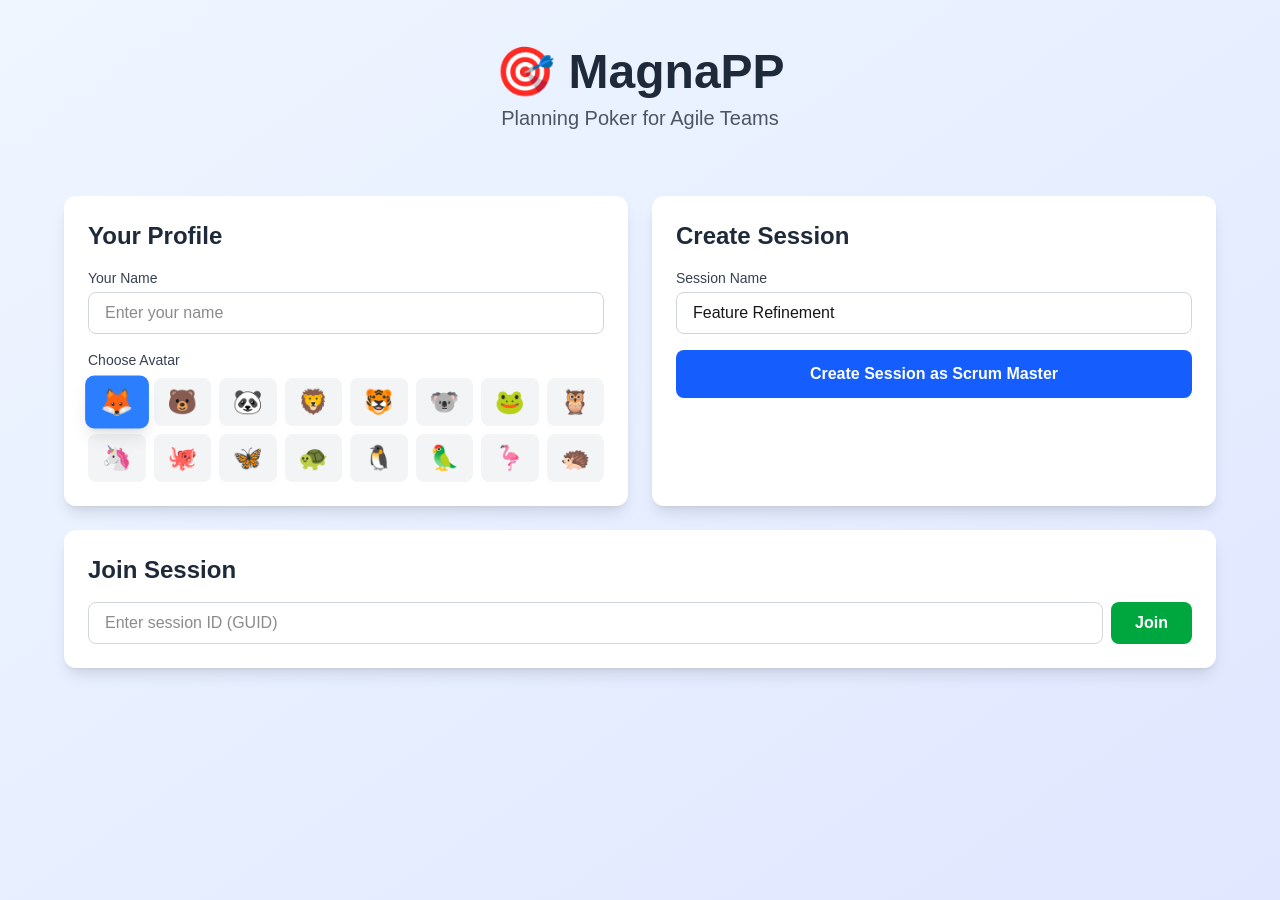
Test: SessionLobby › shows error when joining without name
Type "12345678-1234-1234-1234-123456789012" into the field with placeholder "Enter session ID (GUID)" at (596, 623), box [88,602,1103,644]
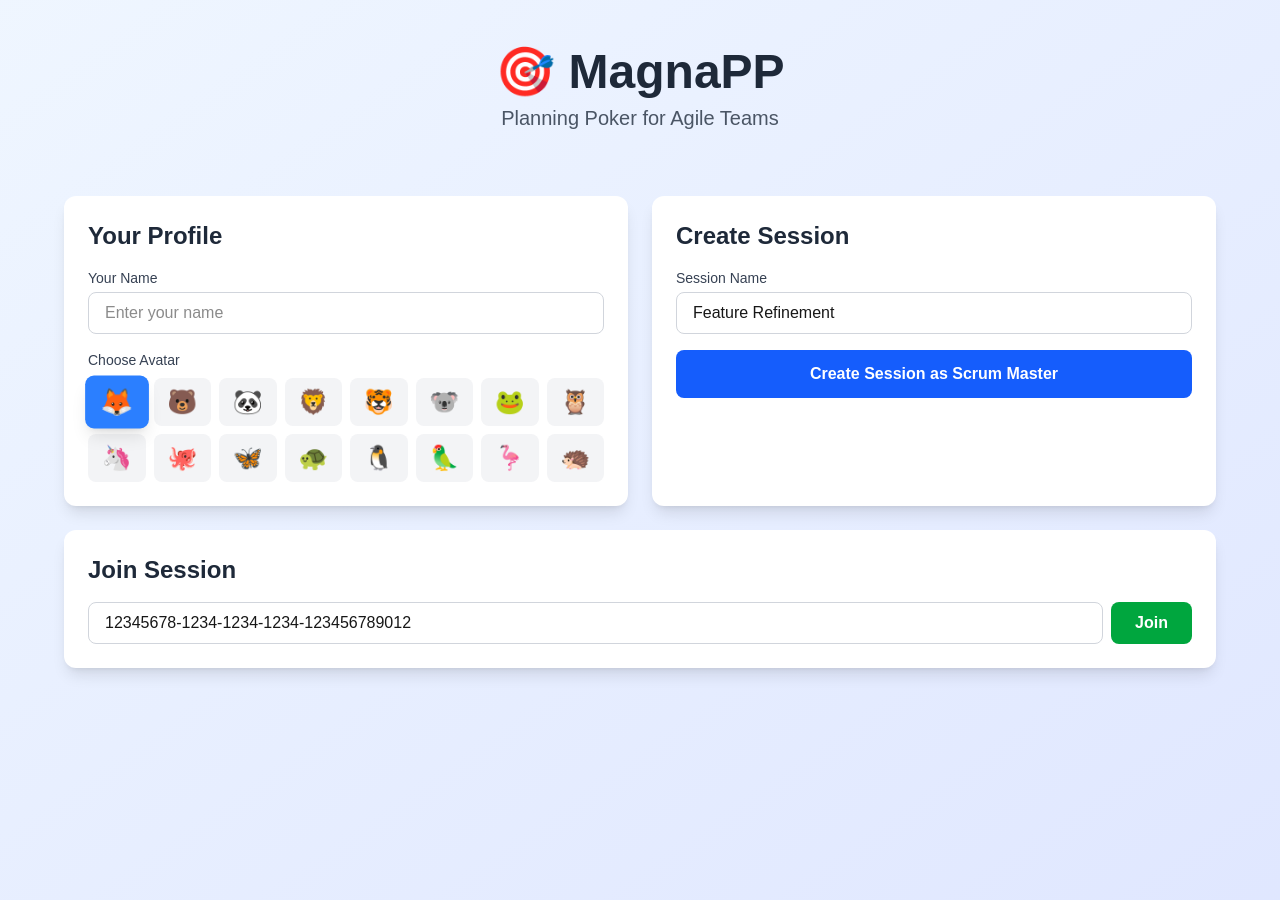
Click the button "Join" at (1152, 623), box [1111,602,1192,644]
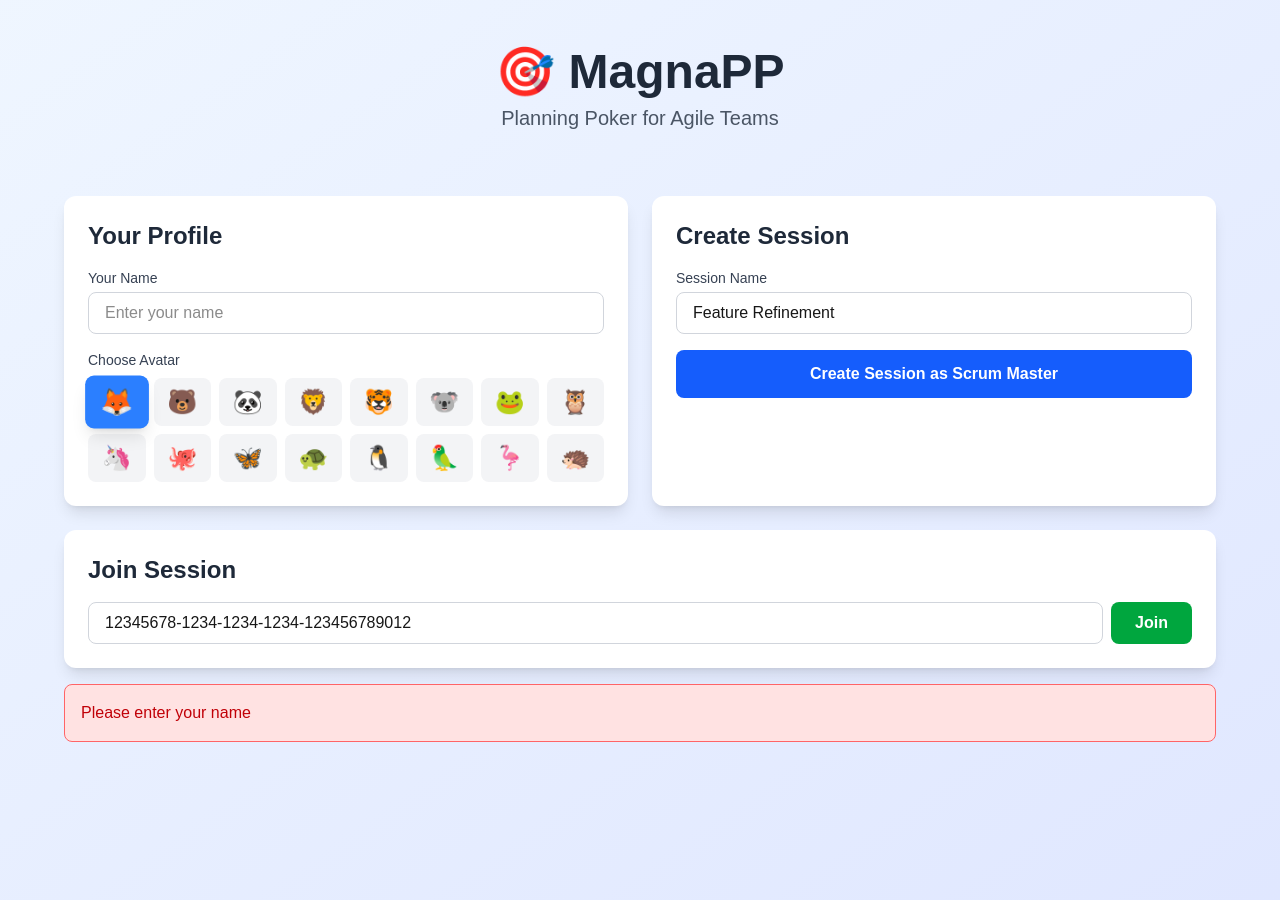
Result: the text "Please enter your name" is shown at [64,684,1216,742]
